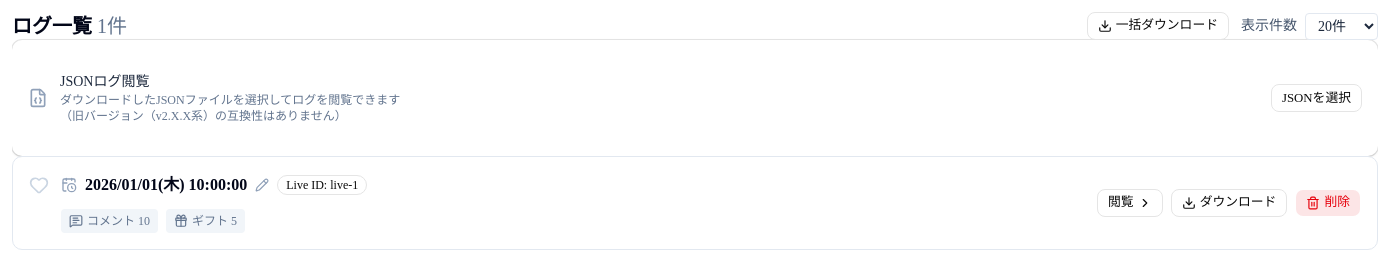
Test: LogListPage › タイトル編集（canEdit=true） › 保存後、タイトルが更新される
Click the button named "タイトルを編集": (262, 185) [255,178,269,192]
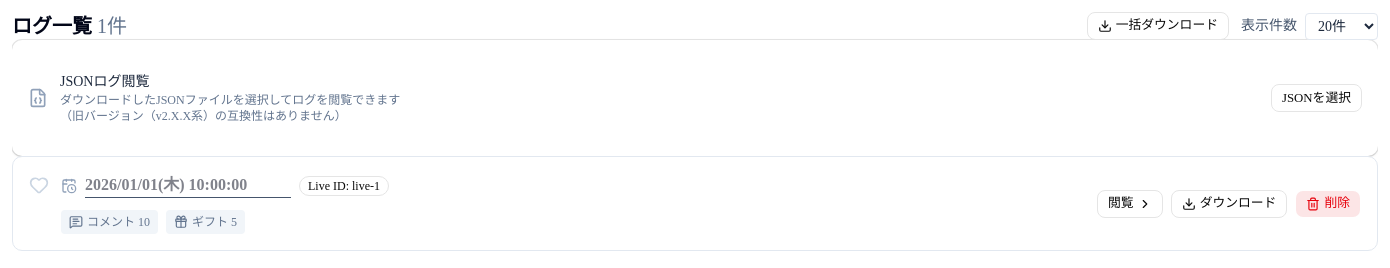
In the field: (188, 186) [85,173,291,198], type "新タイトル"
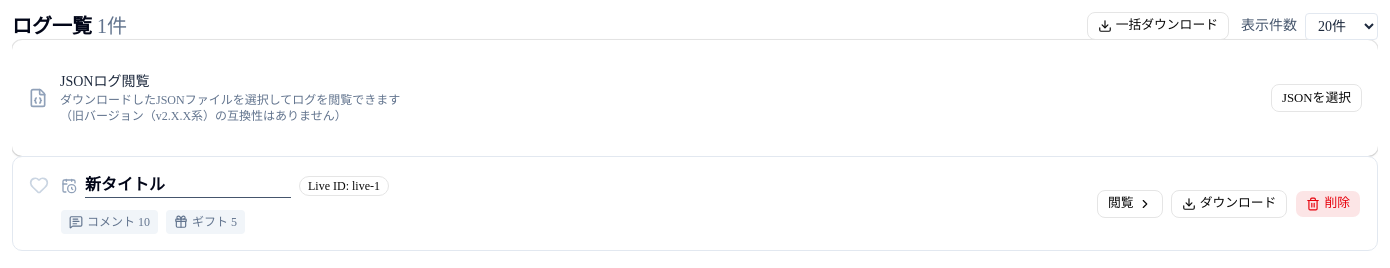
Leave the field, box [85,173,291,198]
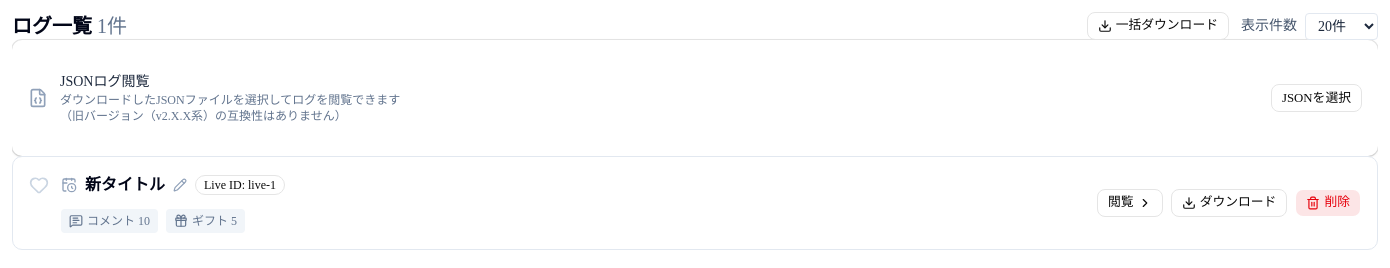
Expected: the text "新タイトル" is shown, [85,173,165,197]
